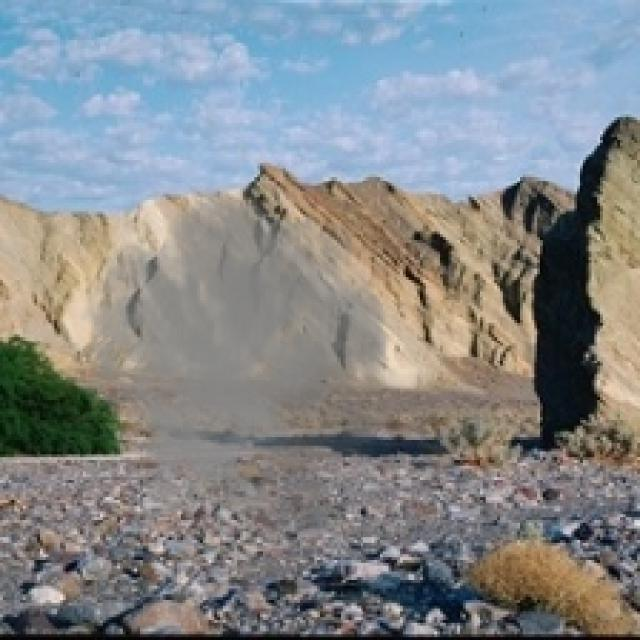Smoke: (80, 171, 497, 560)
